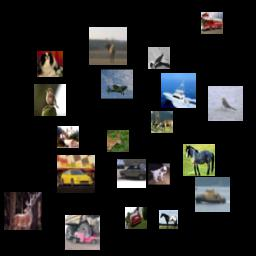airplane: (101, 68, 133, 100), (148, 47, 170, 69)
automobile: (57, 155, 95, 193), (117, 159, 146, 188), (125, 207, 147, 229)
bird: (208, 86, 243, 121), (34, 84, 66, 116)
deer: (89, 27, 127, 65), (4, 192, 42, 230), (151, 111, 173, 133), (107, 130, 129, 152), (57, 126, 79, 148)
dog: (37, 51, 63, 77), (148, 163, 170, 185)
ship: (195, 177, 230, 212), (161, 73, 196, 108)
truck: (65, 215, 100, 250), (201, 12, 223, 34)
